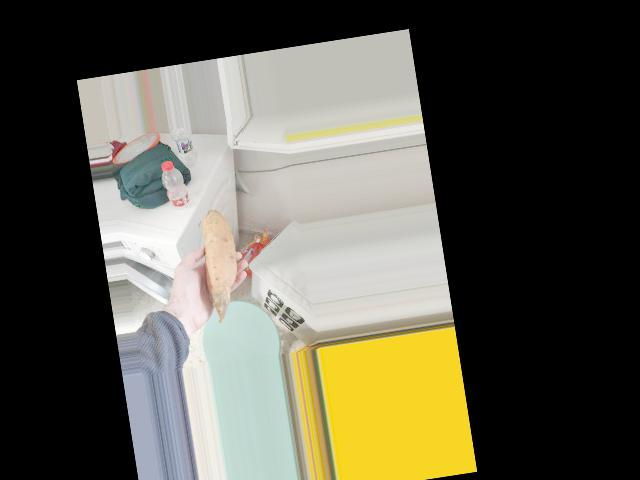sweet_potato: (194, 207, 245, 319)
